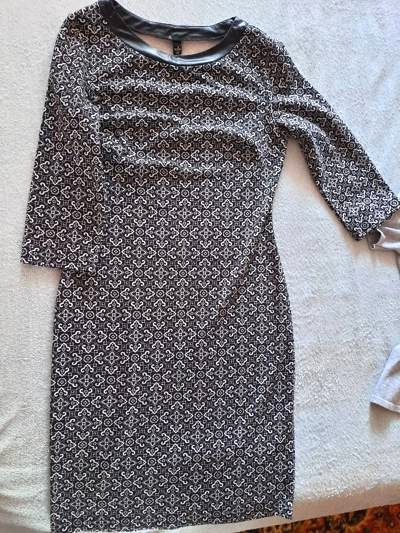Dress: (26, 11, 372, 532)
